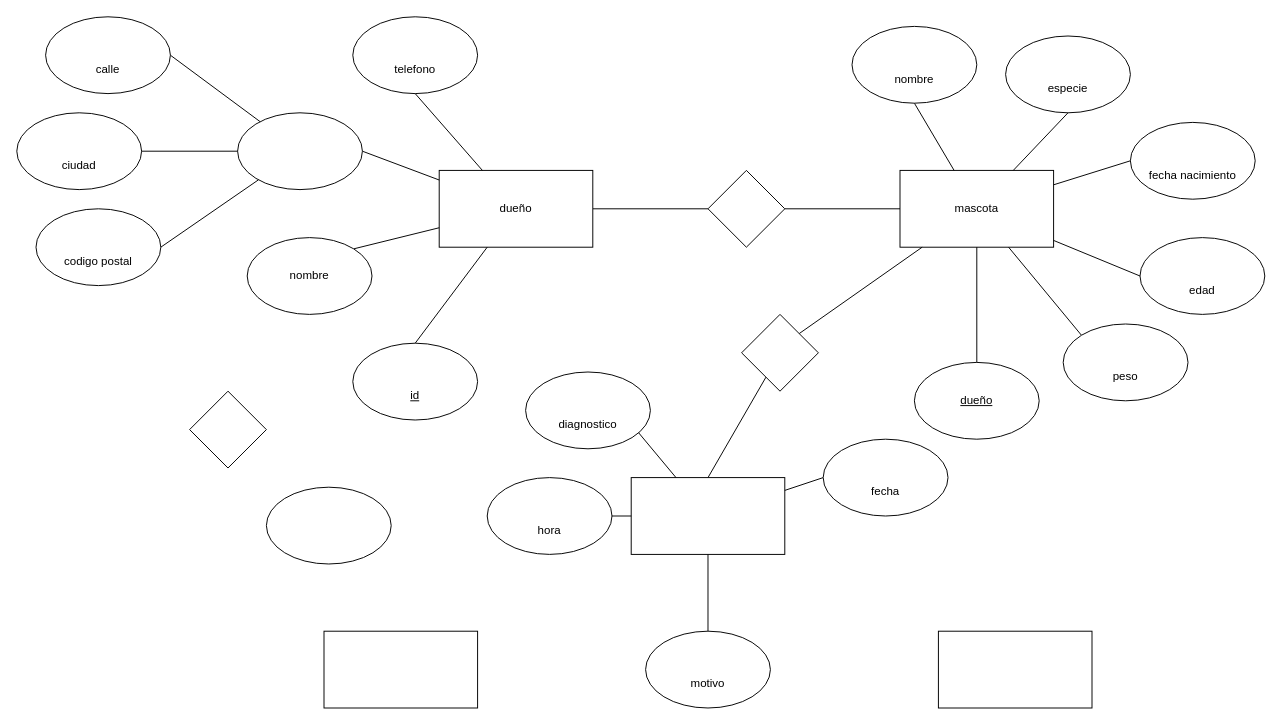
This 1282x725 diagram has some shape labels left out. The centre of each missing label's shape, as x and y in pixels:
"consulta" goes at point (707, 515).
"dirrecion" goes at point (299, 151).
"genera" goes at point (779, 352).
"tiene" goes at point (746, 208).
